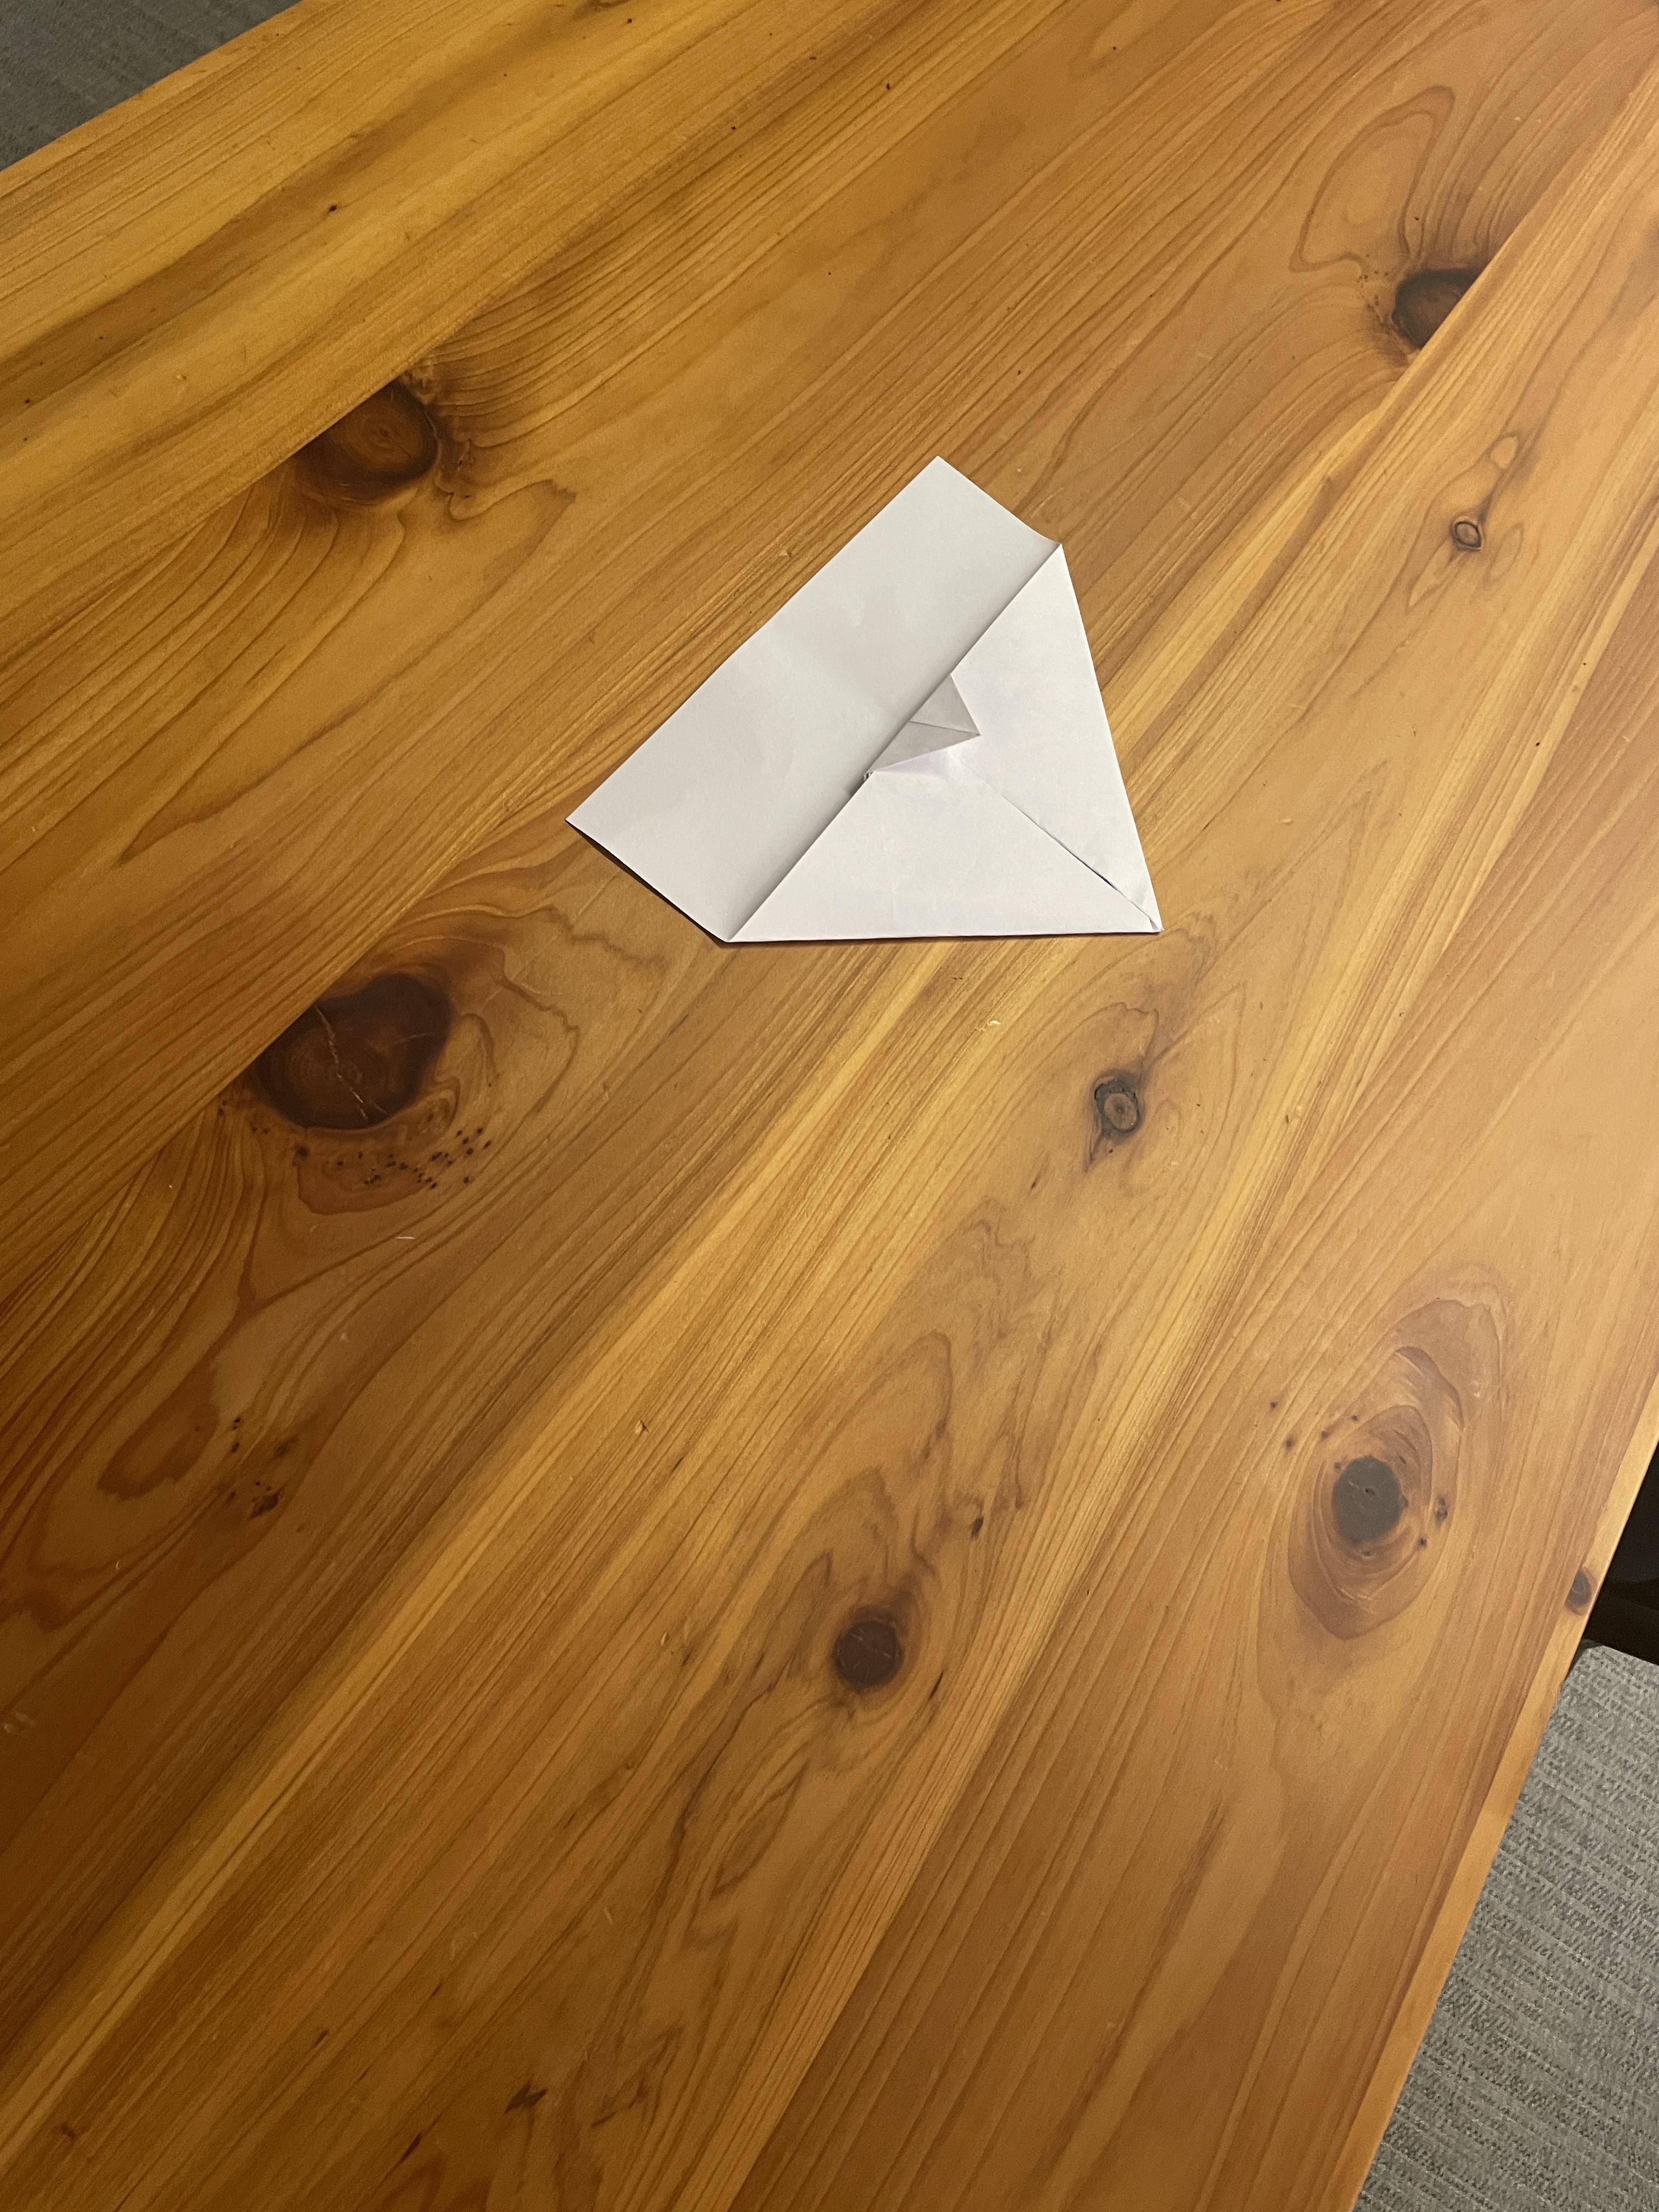shape_2: (521, 265, 1255, 1143)
